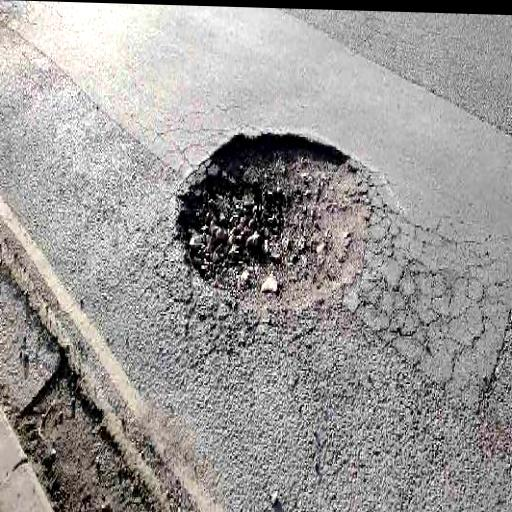pothole: (168, 124, 398, 309), (12, 348, 172, 512)
